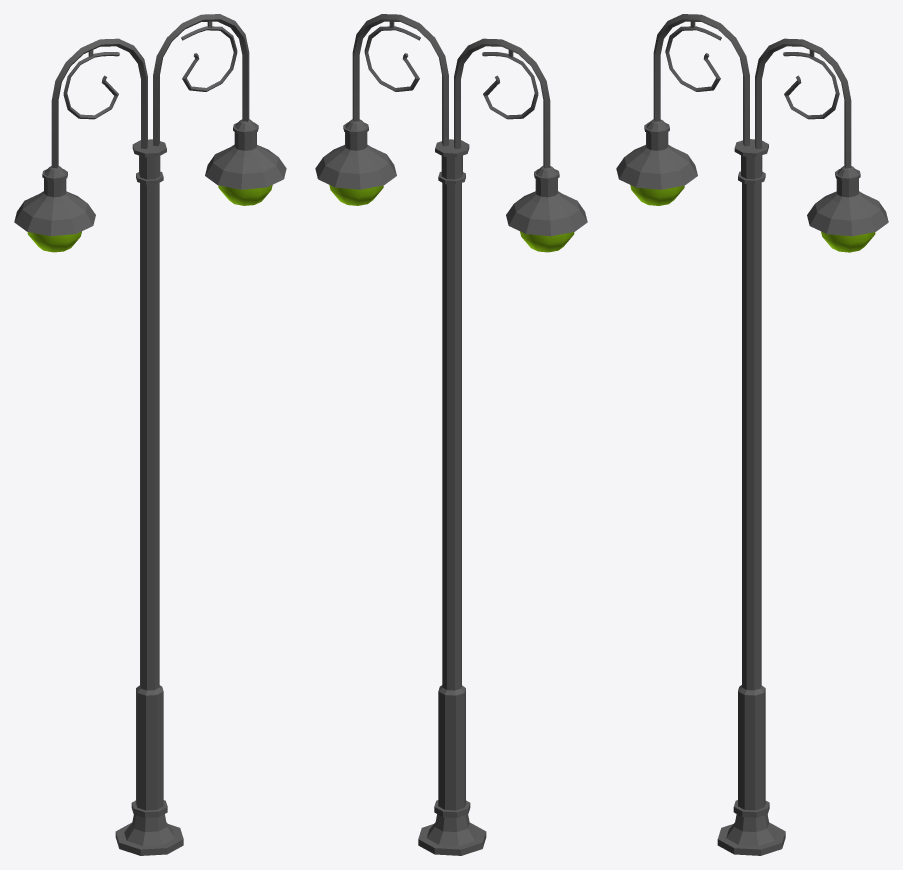
File: SM_lantern_park_01.fbx
3 renders of one model, left to right at view 1: azimuth 30°, elevation 25°; view 2: azimuth 150°, elevation 25°; view 3: azimuth 330°, elevation 25°, orthographic.
Visible parts, largest first — view 1: Cylinder113; view 2: Cylinder113; view 3: Cylinder113.
Part boxes in pixels (box(x1,y1,x2,y2)): Cylinder113: box(14, 14, 286, 855); Cylinder113: box(315, 14, 587, 855); Cylinder113: box(616, 14, 888, 855).
Bounding box in the file's own units: 69.61 × 209 × 19.42.
